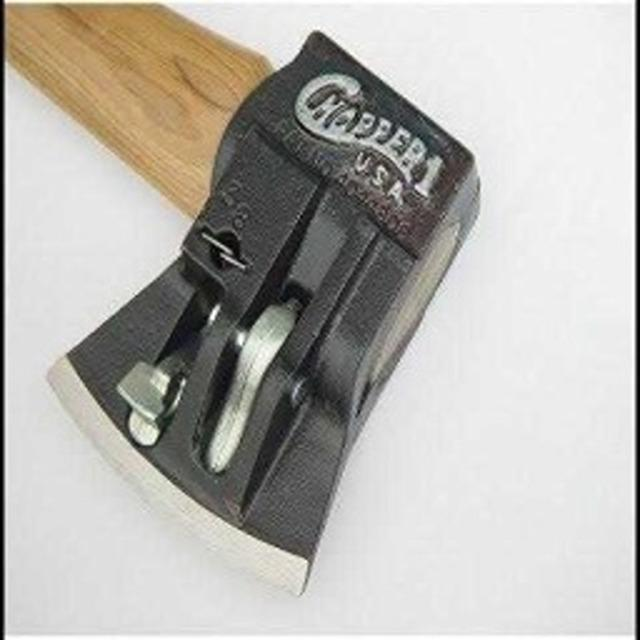ax: (2, 2, 496, 610)
